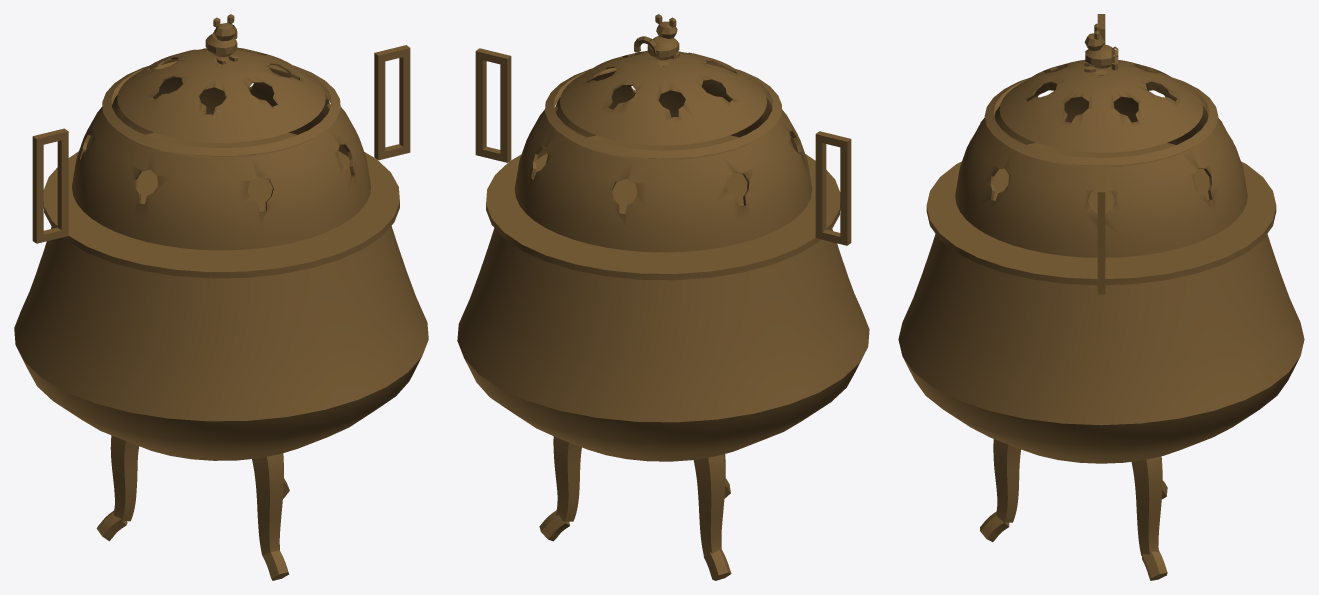
The model's file is xunlu-v3.glb.
The picture shows the model from 3 angles, left to right: view 1: azimuth 30°, elevation 25°; view 2: azimuth 150°, elevation 25°; view 3: azimuth 270°, elevation 25°; orthographic projection. The views are drawn at different scales.
Visible parts, largest first — view 1: xunlu_bronze; view 2: xunlu_bronze; view 3: xunlu_bronze.
Boxes of the visible parts, bbox=[...] form: xunlu_bronze: bbox=[14, 14, 428, 580]; xunlu_bronze: bbox=[457, 14, 869, 580]; xunlu_bronze: bbox=[898, 14, 1304, 580].
Bounding box in the file's own units: 0.374 × 0.5026 × 0.36.
